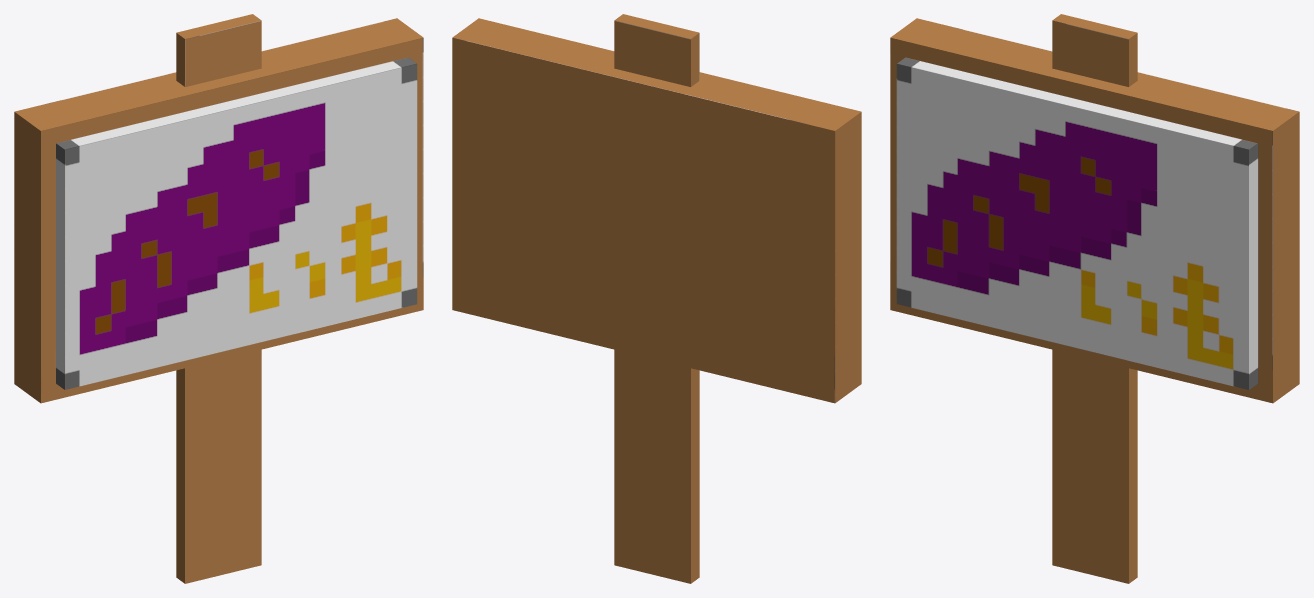
The model's file is kanban_imo.glb.
The picture shows the model from 3 angles, left to right: view 1: azimuth 30°, elevation 25°; view 2: azimuth 150°, elevation 25°; view 3: azimuth 330°, elevation 25°; orthographic projection.
Parts seen in each view (by area): view 1: kanban_imo; view 2: kanban_imo; view 3: kanban_imo.
Boxes of the visible parts, bbox=[...] form: kanban_imo: bbox=[14, 14, 423, 583]; kanban_imo: bbox=[452, 14, 861, 583]; kanban_imo: bbox=[890, 14, 1299, 583].
Bounding box in the file's own units: 1 × 1.36 × 0.16.
Materials: 1 (1 with a texture image).
